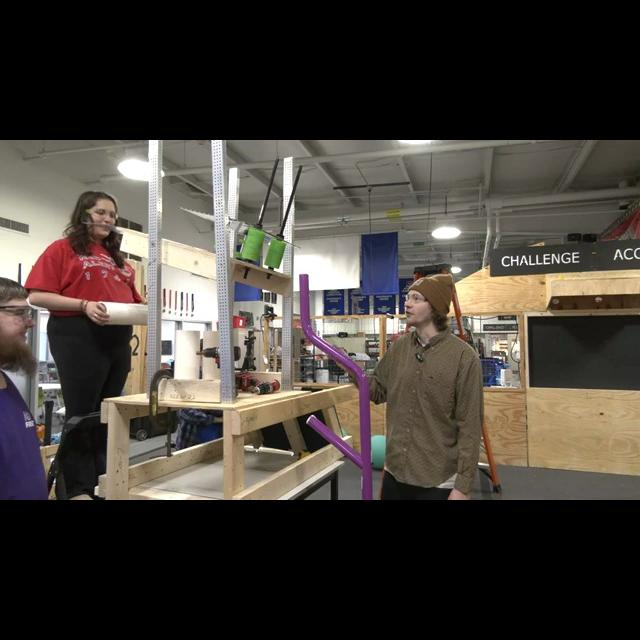CORAL: (174, 330, 200, 380), (96, 300, 148, 324)
